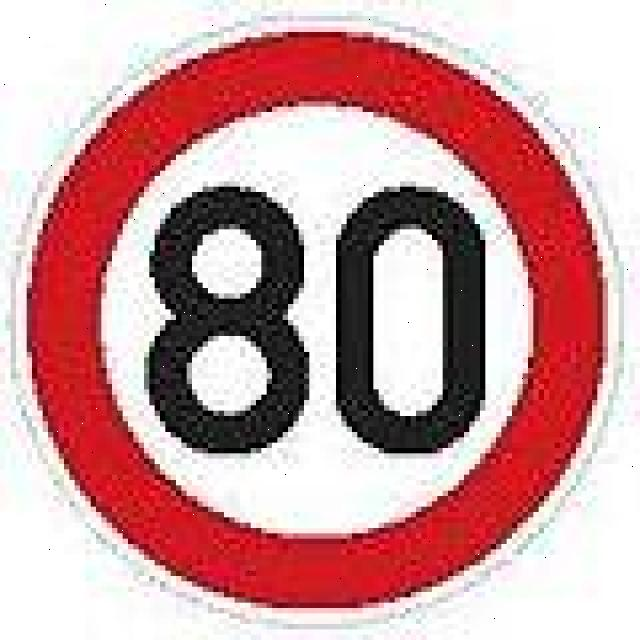speed limit 80: (16, 17, 628, 626)
